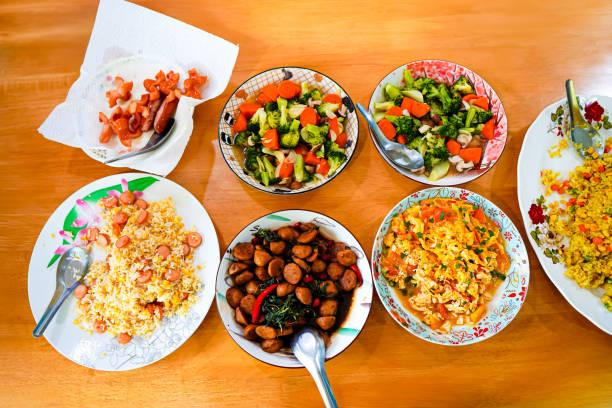Braised Crucian Carp: (27, 173, 215, 372), (36, 0, 239, 176), (216, 208, 373, 368), (371, 186, 527, 346), (217, 67, 356, 194), (367, 59, 507, 185)
